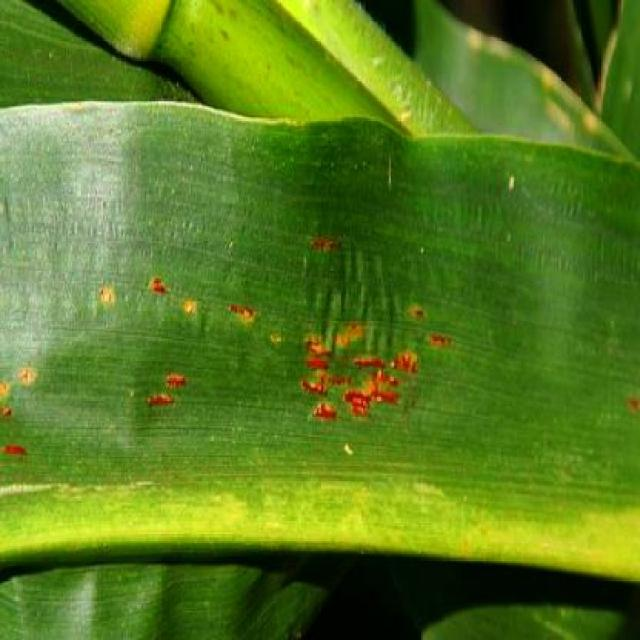Corn_Rust: (15, 99, 640, 512)
